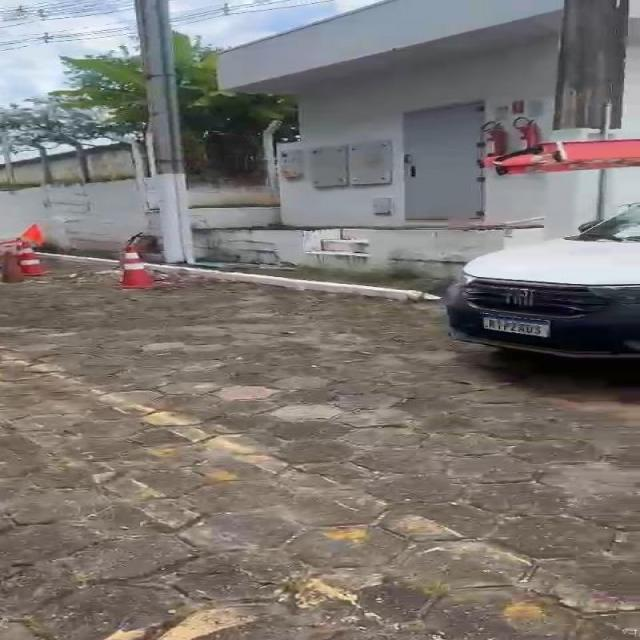Cone: (116, 238, 162, 288), (15, 236, 49, 276)
